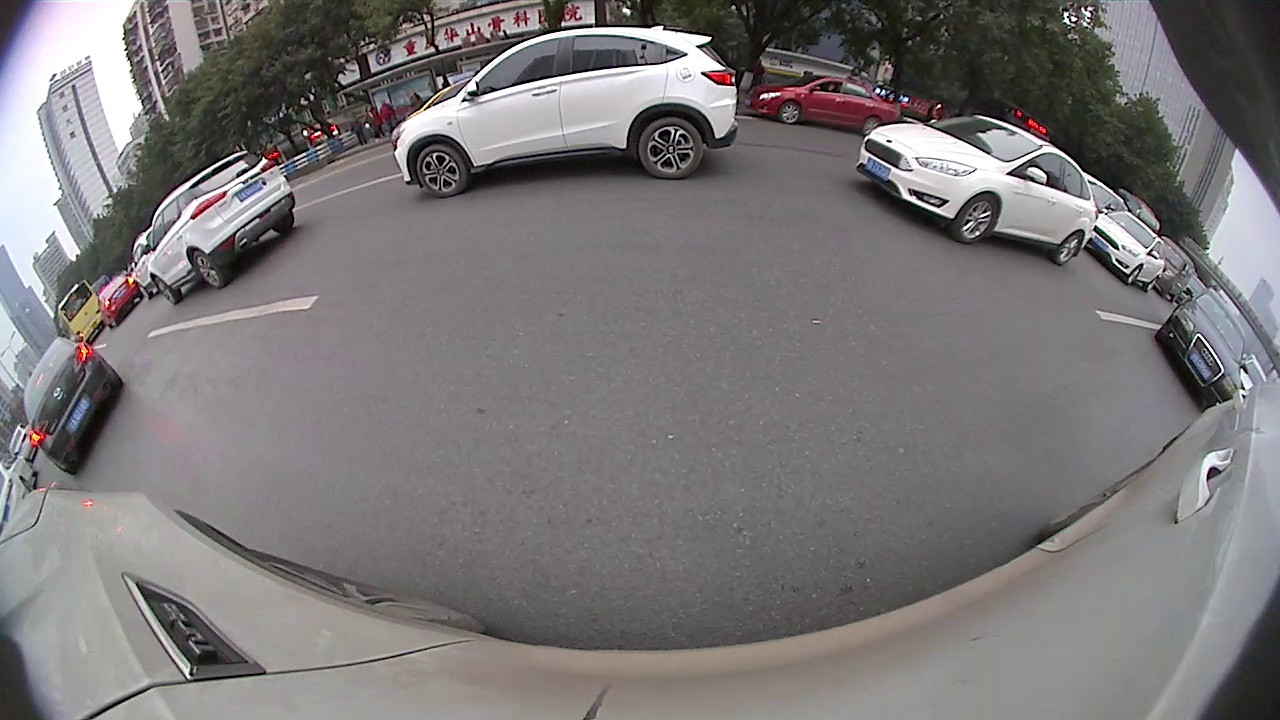bus: (56, 277, 110, 347)
car: (390, 25, 737, 200), (857, 112, 1098, 266), (145, 149, 296, 304), (22, 337, 125, 476), (1153, 290, 1244, 407), (749, 76, 904, 138), (1088, 209, 1169, 290), (95, 270, 145, 326)
front: (415, 141, 469, 200), (952, 191, 1000, 245), (152, 277, 184, 305), (780, 99, 803, 126), (1124, 262, 1142, 287)
rear: (639, 117, 703, 181), (190, 247, 229, 289), (1052, 228, 1085, 268), (860, 114, 884, 138)
